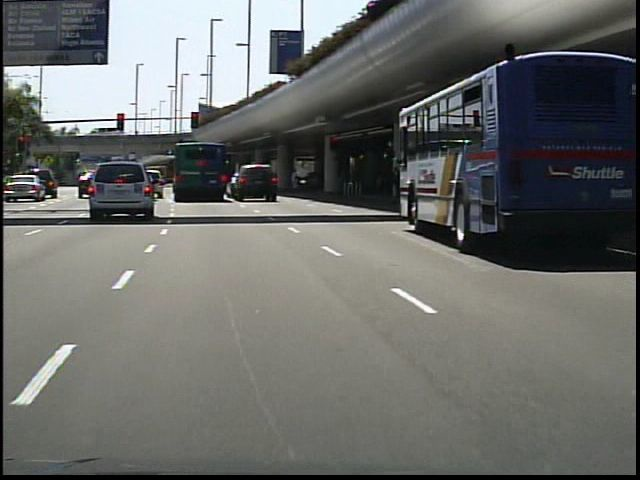person: (287, 161, 307, 198)
